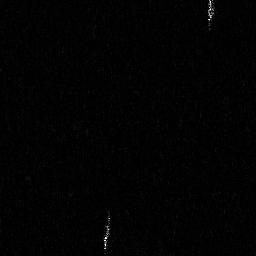ship: (102, 206, 114, 256)
